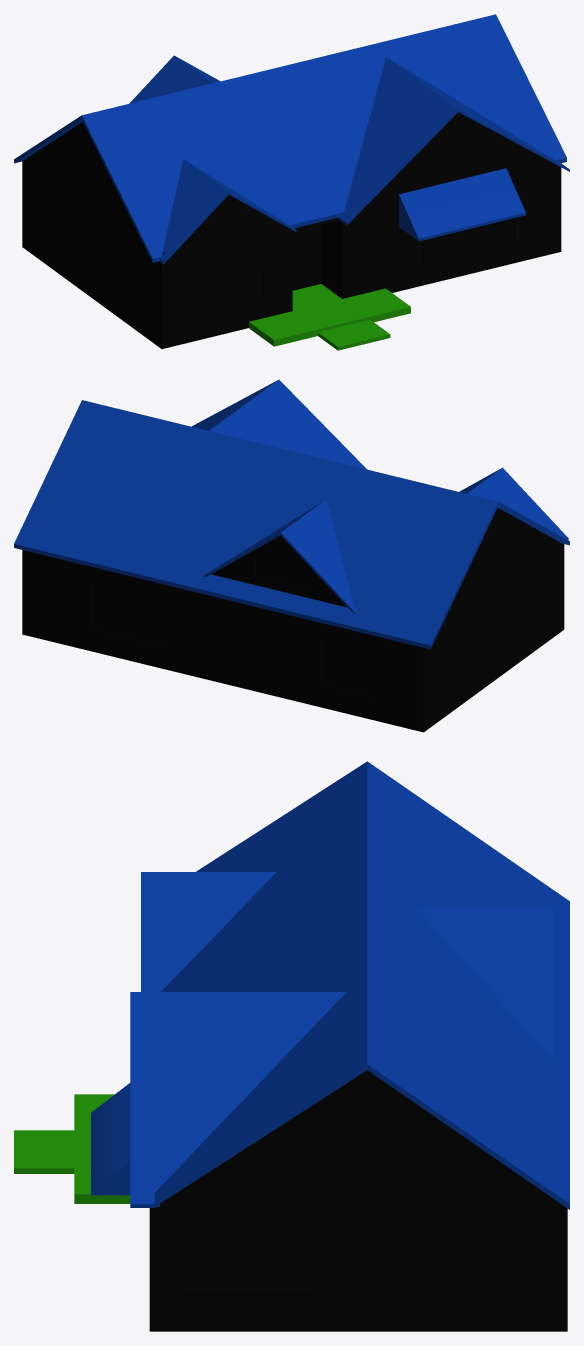
The model's file is House01_SW.fbx.
3 views of the same model, one above another, from view 1: azimuth 30°, elevation 25°; view 2: azimuth 150°, elevation 25°; view 3: azimuth 270°, elevation 25° (orthographic). The views are drawn at different scales.
Parts seen in each view (by area): view 1: House_SW; view 2: House_SW; view 3: House_SW.
Part boxes in pixels (x1,y1,x2,y2): House_SW: [14, 14, 569, 350]; House_SW: [14, 379, 569, 732]; House_SW: [14, 761, 569, 1331].
Size of the model in its own units: 3027 by 1276 by 2350.
